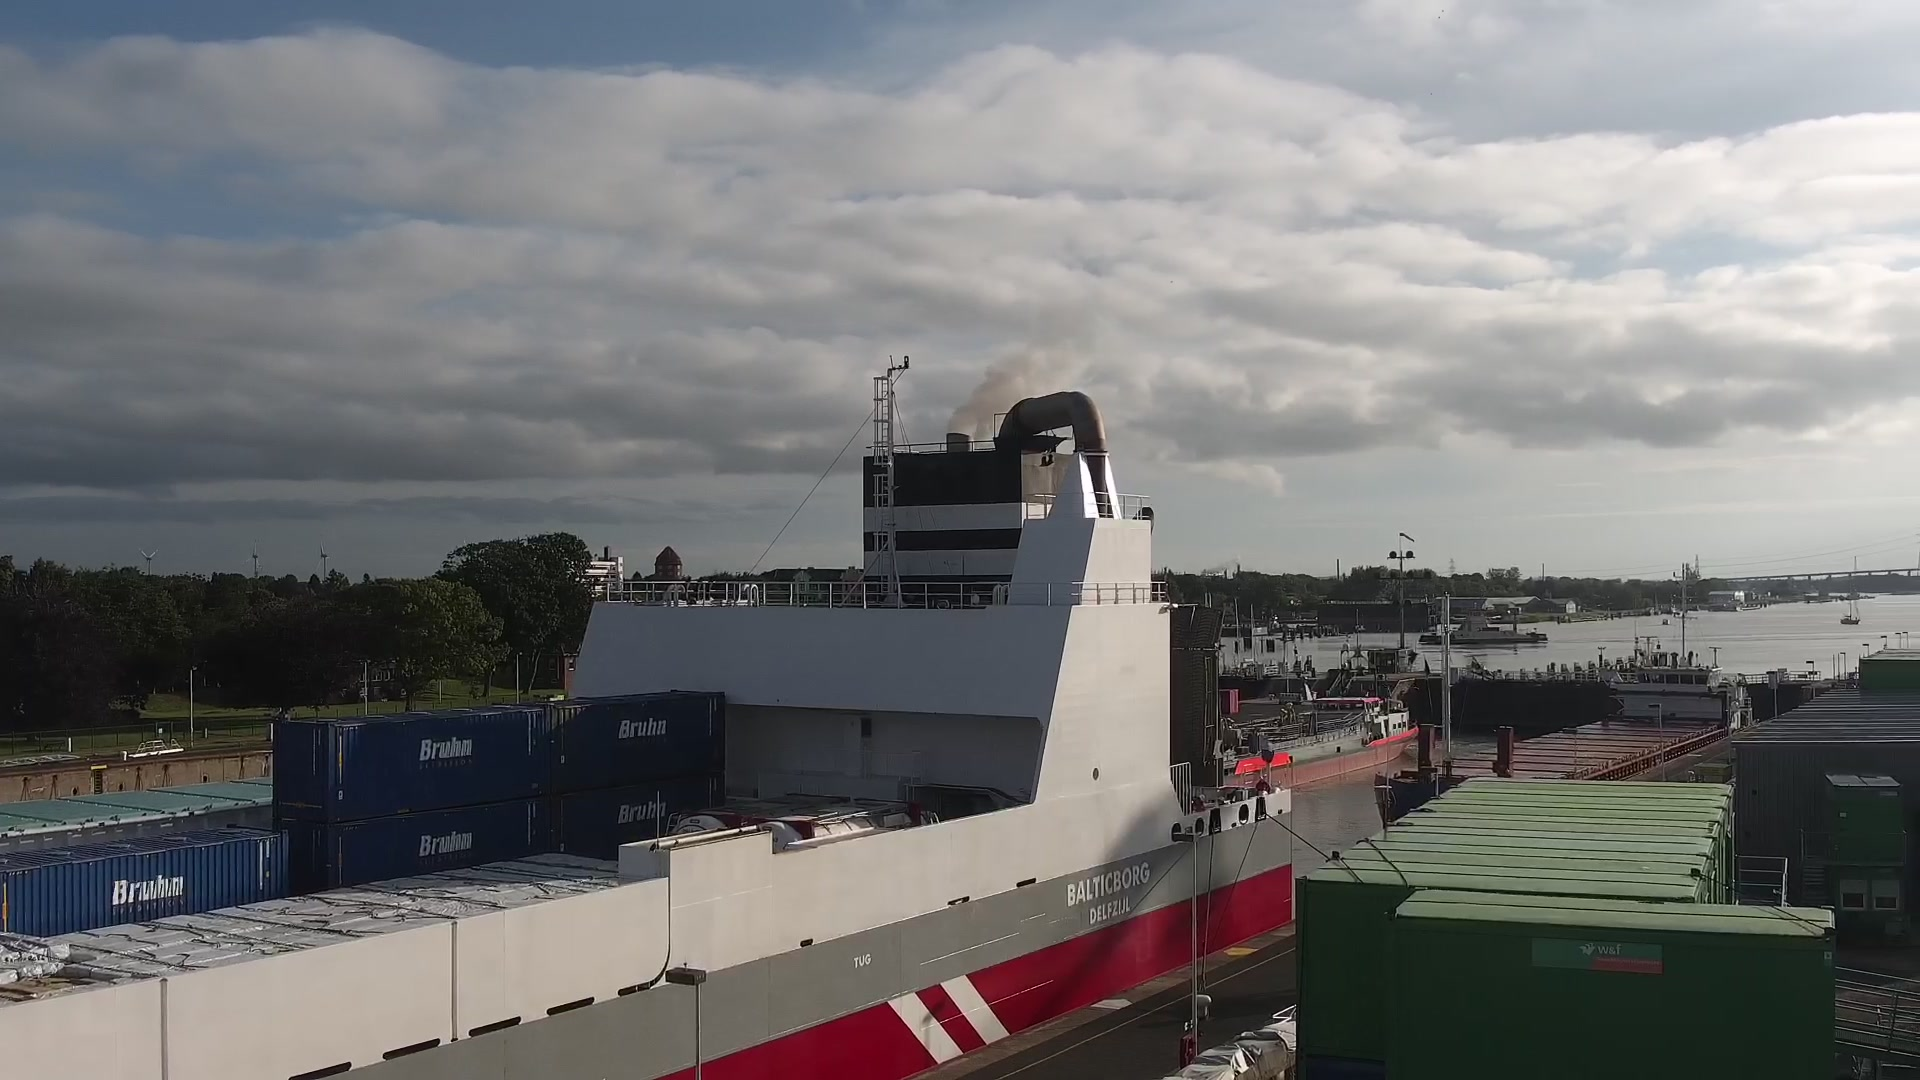sea: (1, 355, 1290, 1080), (1373, 562, 1754, 827), (1218, 670, 1419, 787), (1840, 582, 1859, 624)
